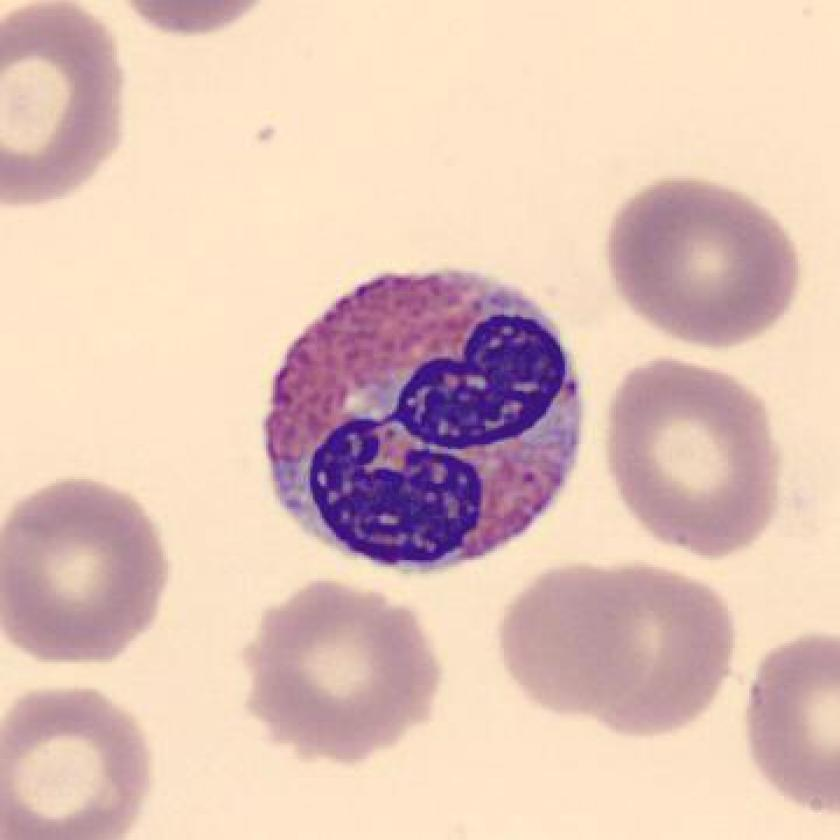eosinophil: (239, 253, 596, 589)
